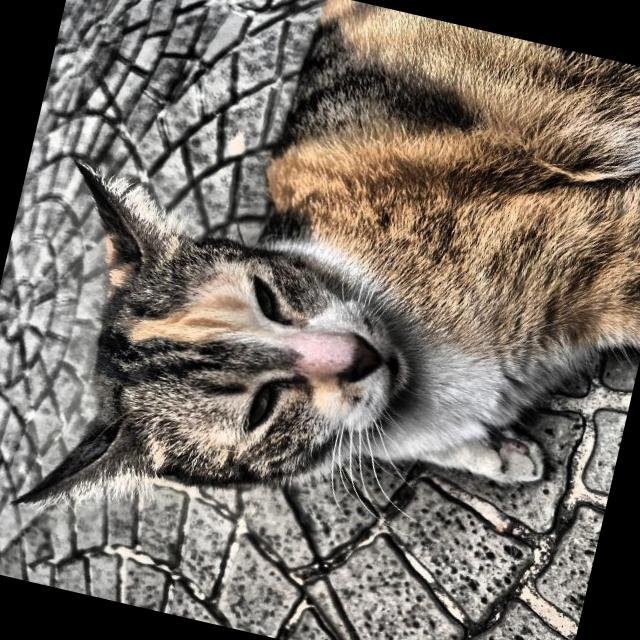Healthy skin: (29, 182, 253, 488), (322, 268, 536, 454), (288, 7, 495, 174)
